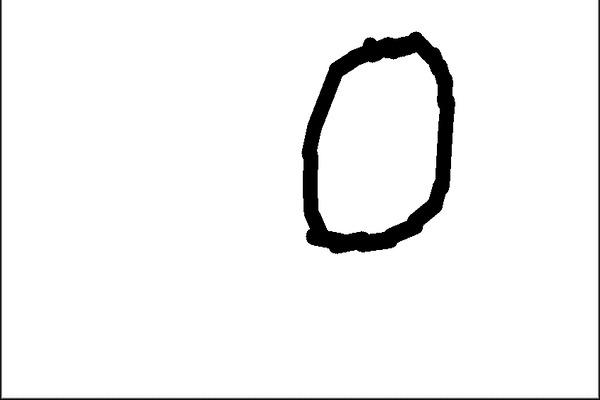O: (284, 27, 466, 263)
